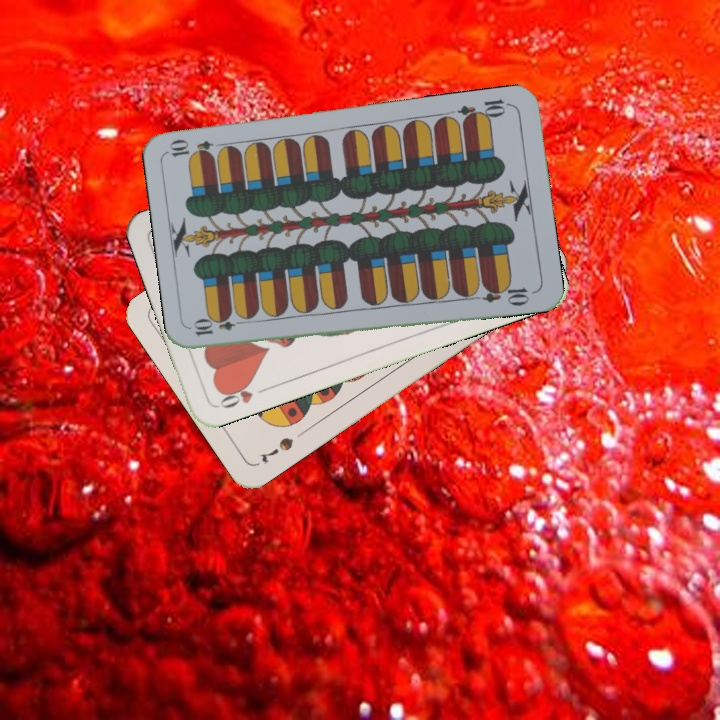E10: (454, 95, 513, 126), (190, 314, 249, 338)
HO: (213, 377, 270, 411)
S7: (256, 433, 296, 466)
